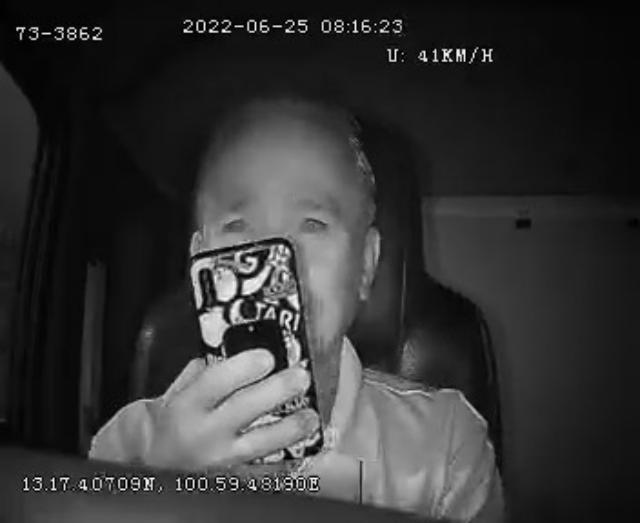PhoneUse: (184, 238, 324, 464)
SafeDriving: (294, 199, 336, 245)
